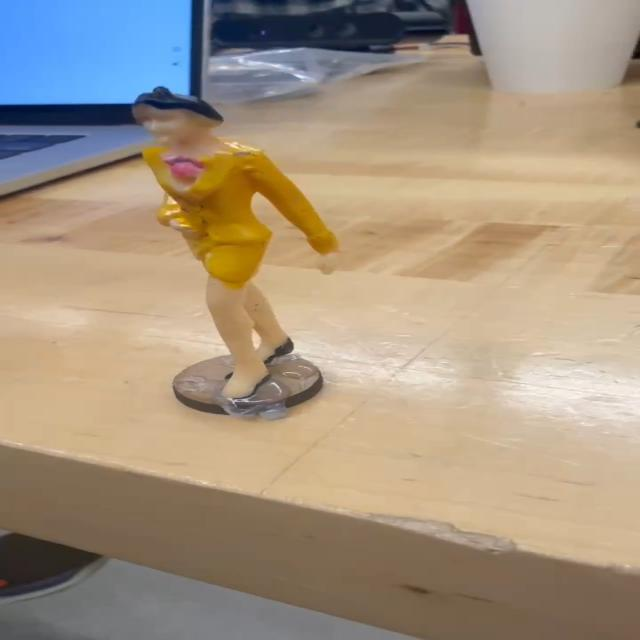Authorized: (116, 83, 352, 406)
